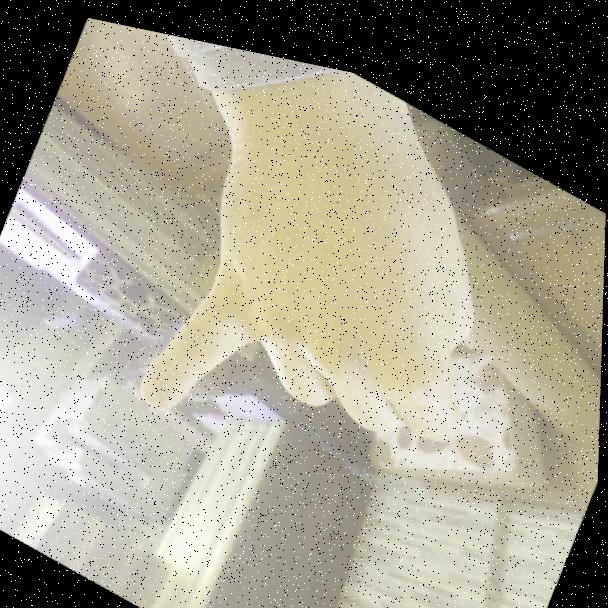five: (119, 33, 556, 571)
